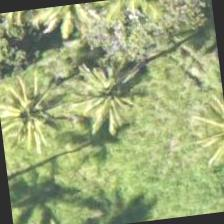Kelapa_Sawit: (0, 64, 87, 164)
